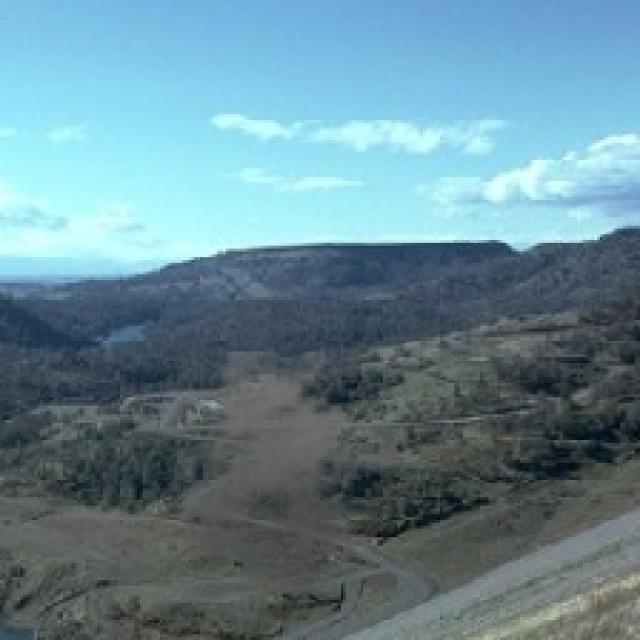smoke: (163, 351, 391, 600)
